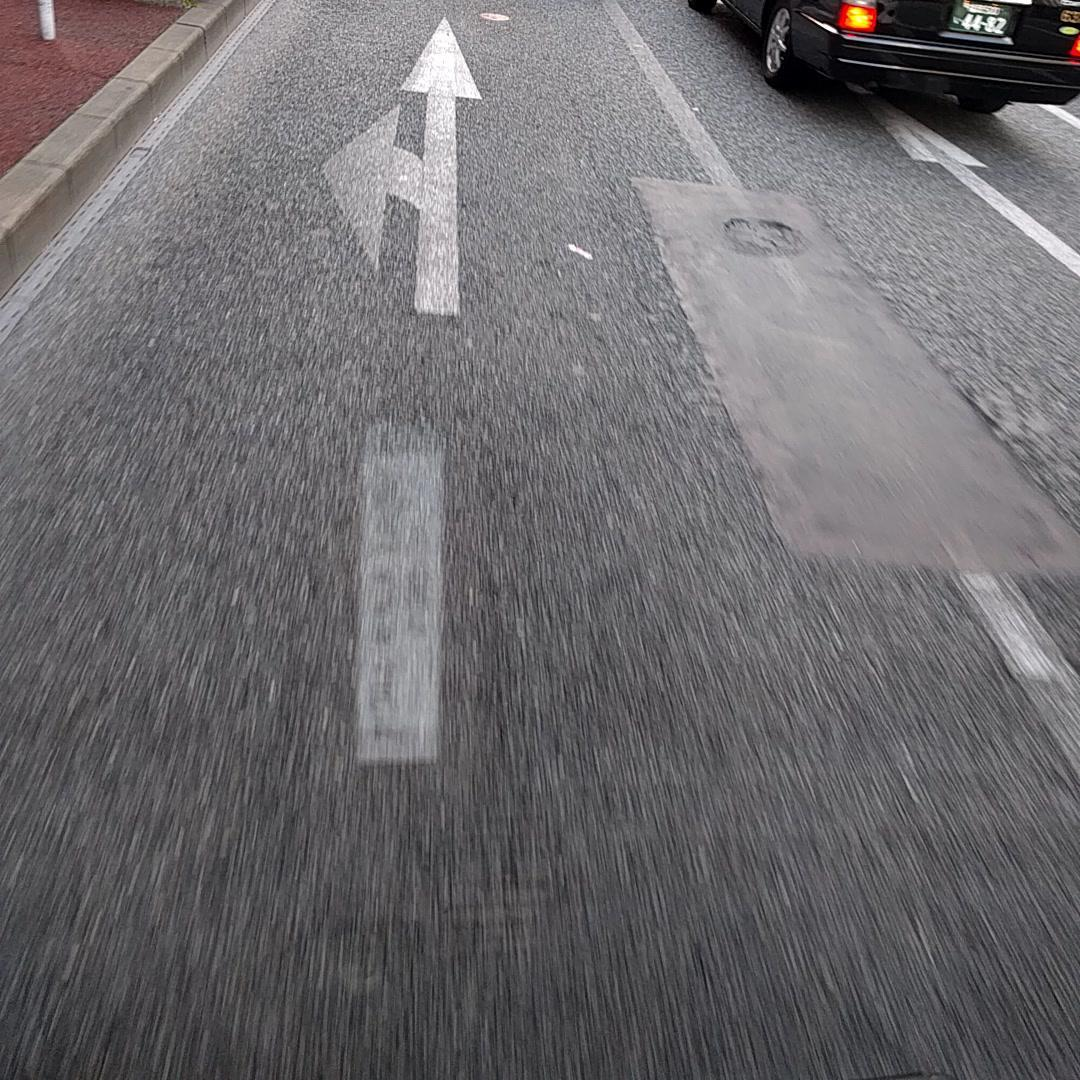D40: (713, 208, 808, 261)
